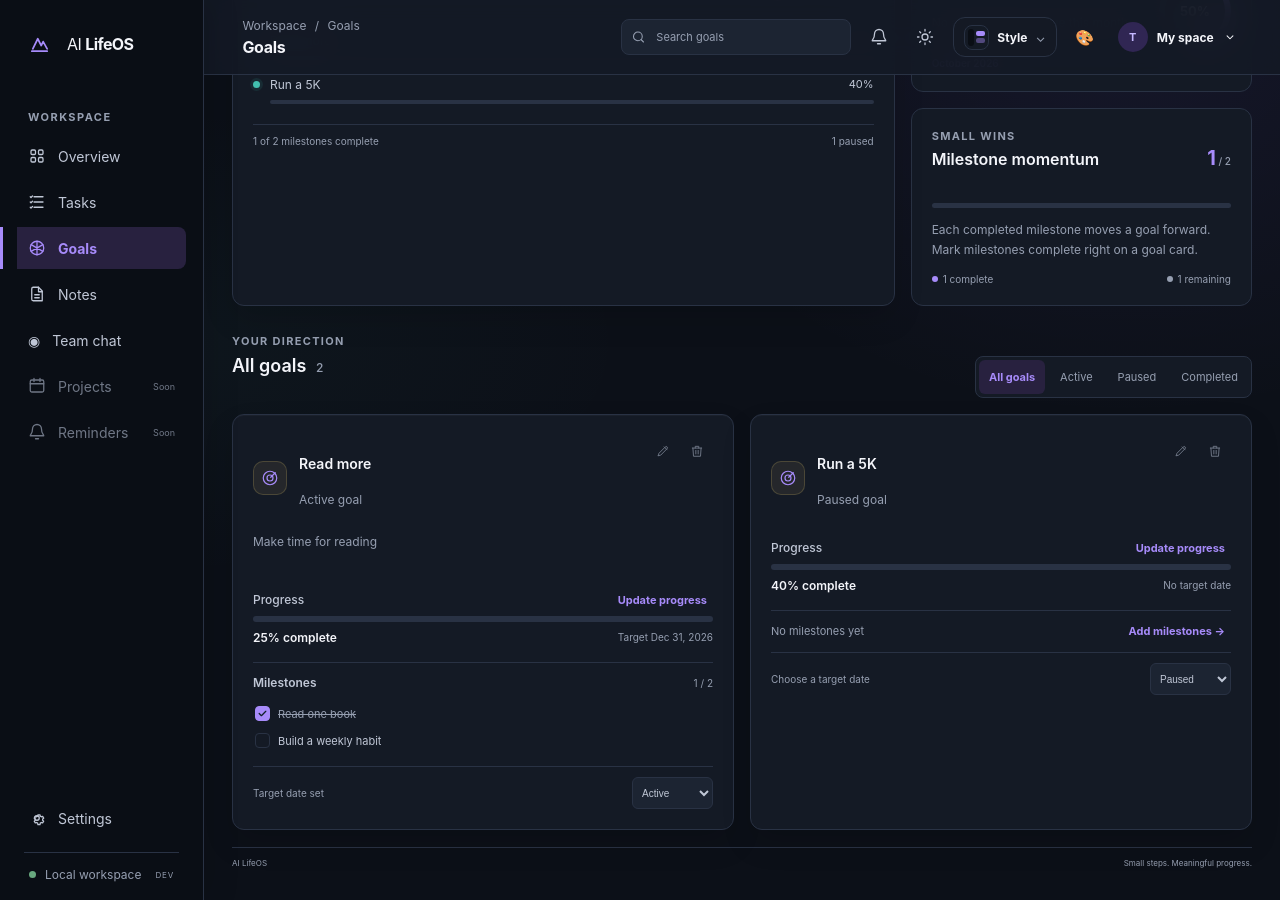
Scenario: GoalsComponent › shows the API failure status when goal persistence fails
This screenshot has width=1280, height=900.
(page scrolled)
Click the button with class "goal-milestone-row" showing "Build a weekly habit" at (330, 741), box [253,728,713,753]
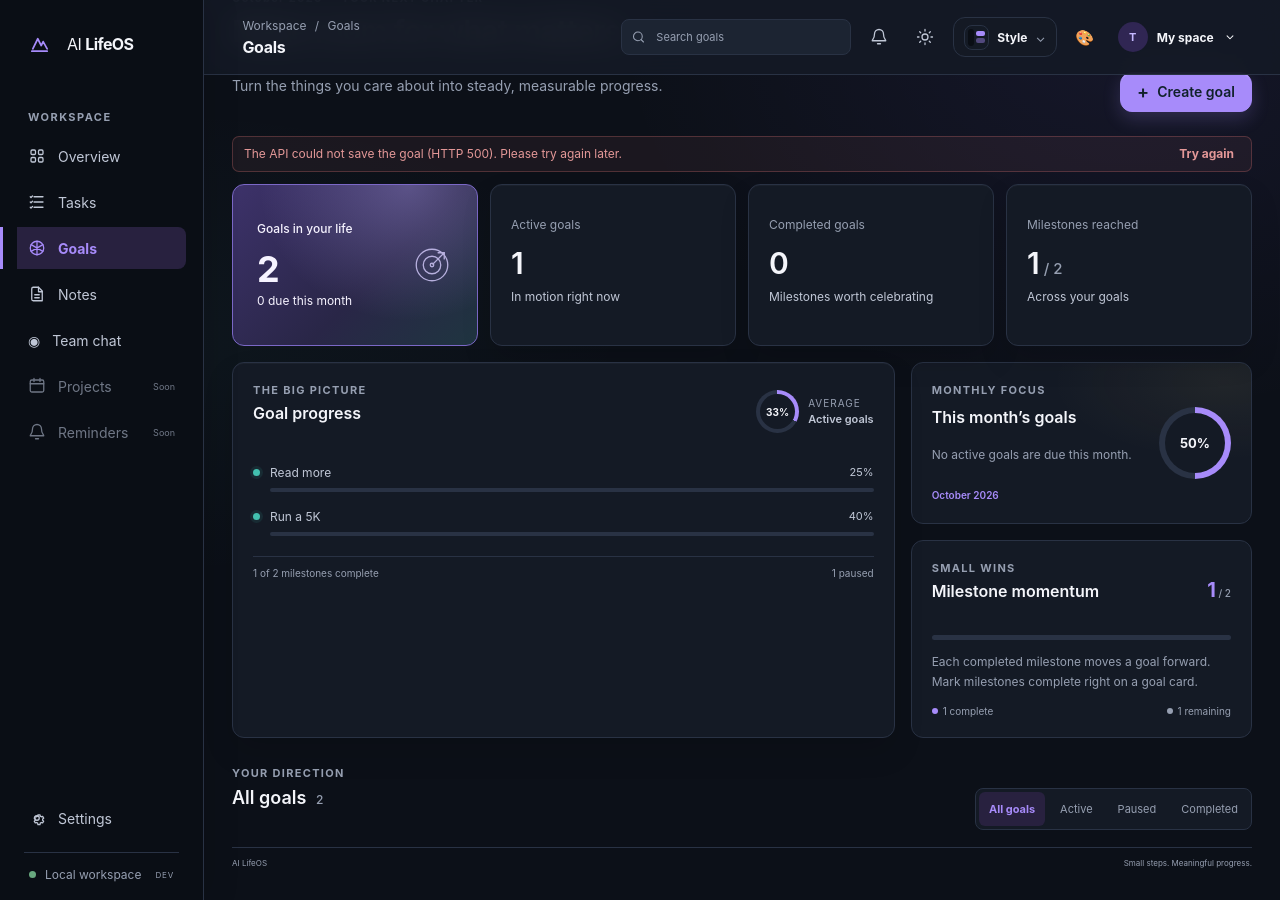
Expected: the text "The API could not save the goal (HTTP 500)." is shown, [244,146,622,161]
